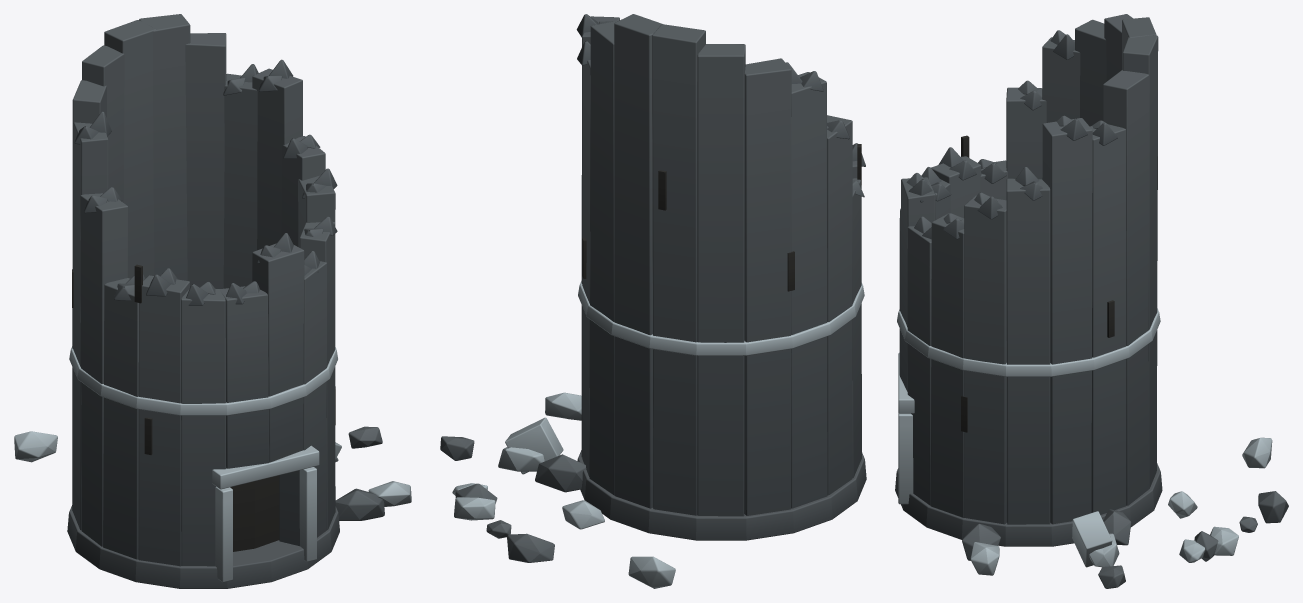
The model's file is fog_ruin_tower.glb.
3 views of the same model, side by side, from view 1: azimuth 30°, elevation 25°; view 2: azimuth 150°, elevation 25°; view 3: azimuth 270°, elevation 25° (orthographic). The views are drawn at different scales.
Parts seen in each view (by area): view 1: fog_ruin_tower; view 2: fog_ruin_tower; view 3: fog_ruin_tower.
Boxes of the visible parts, x1,y1,x2,y2 form: fog_ruin_tower: (14,14,411,588); fog_ruin_tower: (440,14,866,588); fog_ruin_tower: (895,14,1288,588).
Bounding box in the file's own units: 10.91 × 14.41 × 11.18.
1 material, 1 textured.
